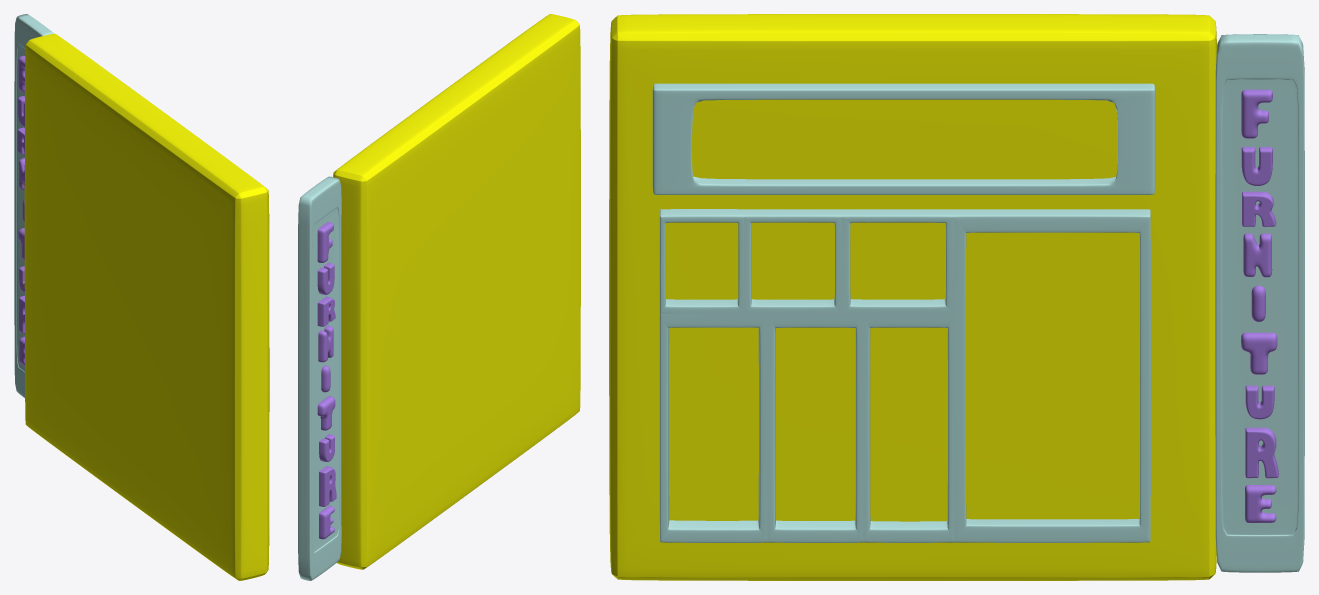
3 renders of one model, left to right at view 1: azimuth 30°, elevation 25°; view 2: azimuth 150°, elevation 25°; view 3: azimuth 270°, elevation 25°, orthographic. The views are drawn at different scales.
Visible parts, largest first — view 1: polySurface1369; view 2: polySurface1369; view 3: polySurface1369.
Part boxes in pixels (bbox=[...]): polySurface1369: bbox=[14, 14, 269, 580]; polySurface1369: bbox=[298, 14, 580, 580]; polySurface1369: bbox=[609, 14, 1304, 580].
Bounding box in the file's own units: 0.1249 × 0.9995 × 1.14.
